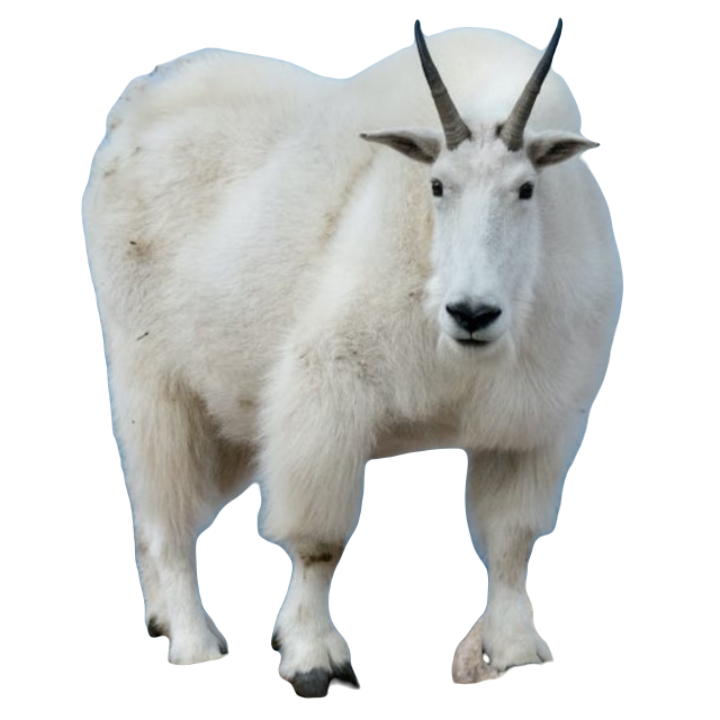Goat: (80, 18, 625, 698)
